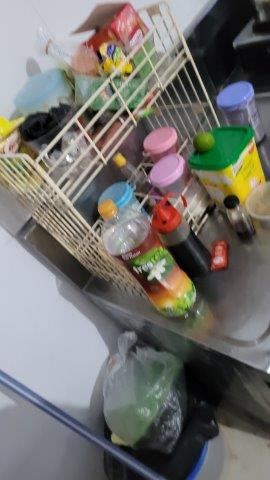botolplastik: (97, 197, 197, 317)
